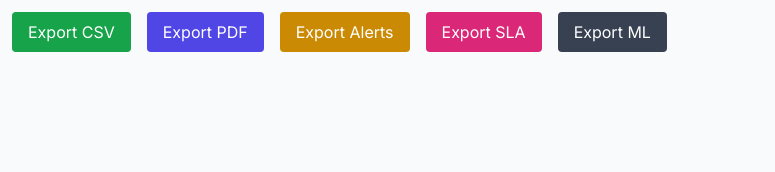
Test: ExportButtons › shows error if no token
Click the button "Export CSV": (71,32) left=12, top=12, right=131, bottom=52
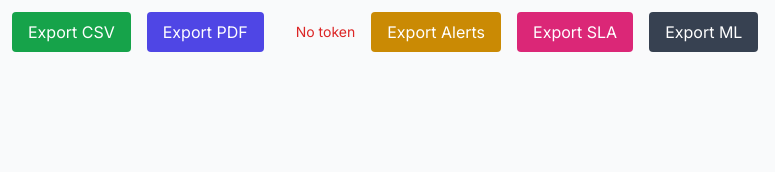
Now the text "No token" is shown, box left=296, top=22, right=355, bottom=42
